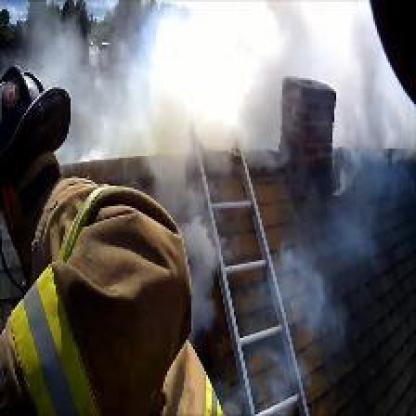other: (15, 296, 84, 400), (157, 32, 258, 93)
smoke: (326, 21, 388, 134), (138, 94, 264, 136)
